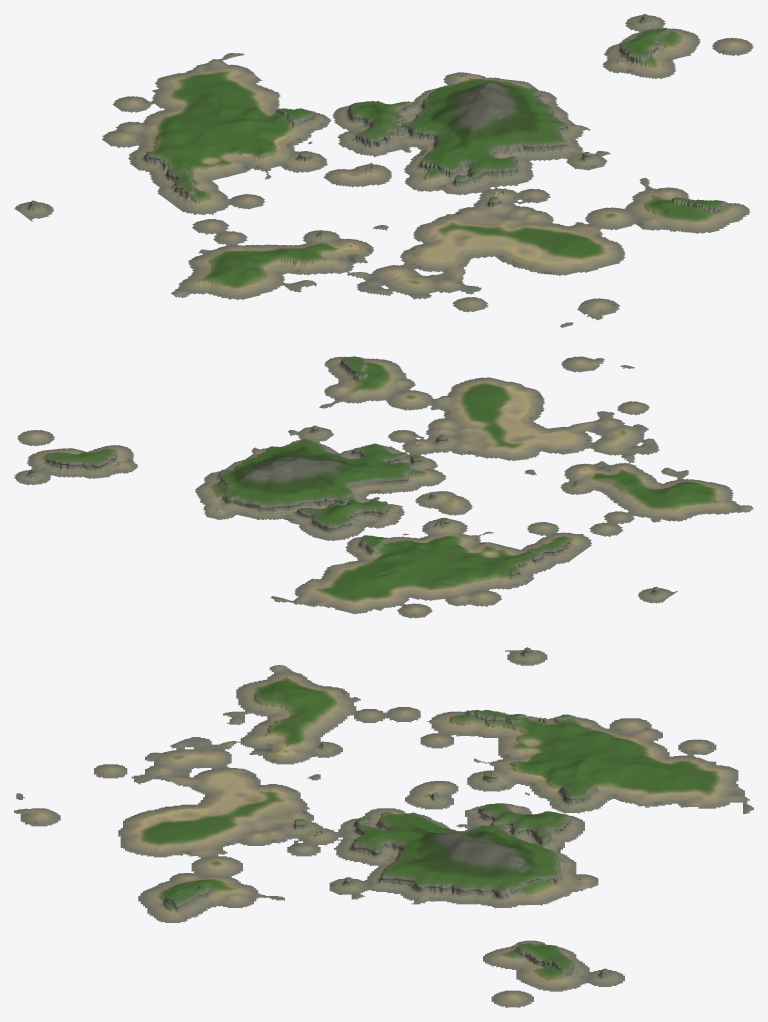
Rendered from arch_islands.glb.
3 views of the same model, one above another, from view 1: azimuth 30°, elevation 25°; view 2: azimuth 150°, elevation 25°; view 3: azimuth 270°, elevation 25° (orthographic). The views are drawn at different scales.
Visible parts, largest first — view 1: arch_islands; view 2: arch_islands; view 3: arch_islands.
Boxes of the visible parts, bbox=[...] form: arch_islands: bbox=[14, 14, 753, 327]; arch_islands: bbox=[14, 356, 753, 618]; arch_islands: bbox=[14, 647, 753, 1007].
Size of the model in its own units: 2280 by 78.1 by 1998.
